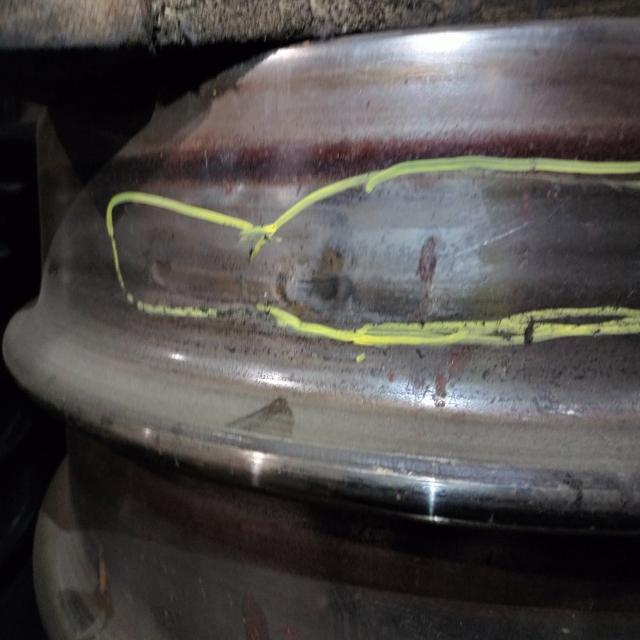flat: (253, 165, 640, 324)
